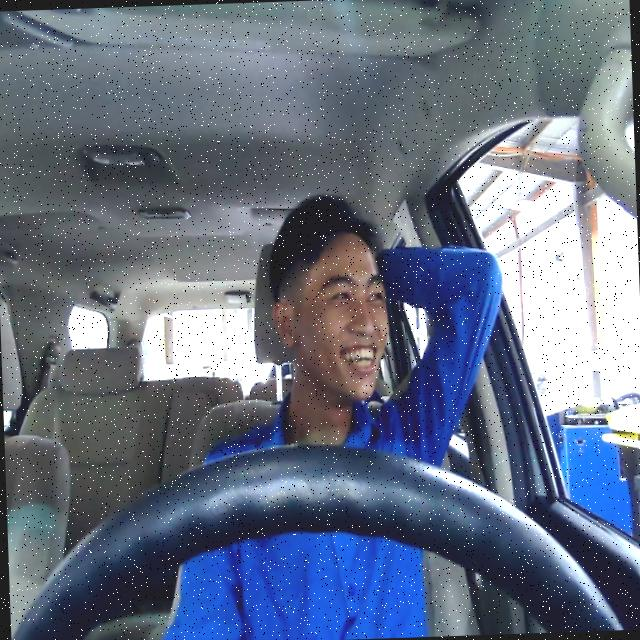focused: (266, 227, 392, 401)
